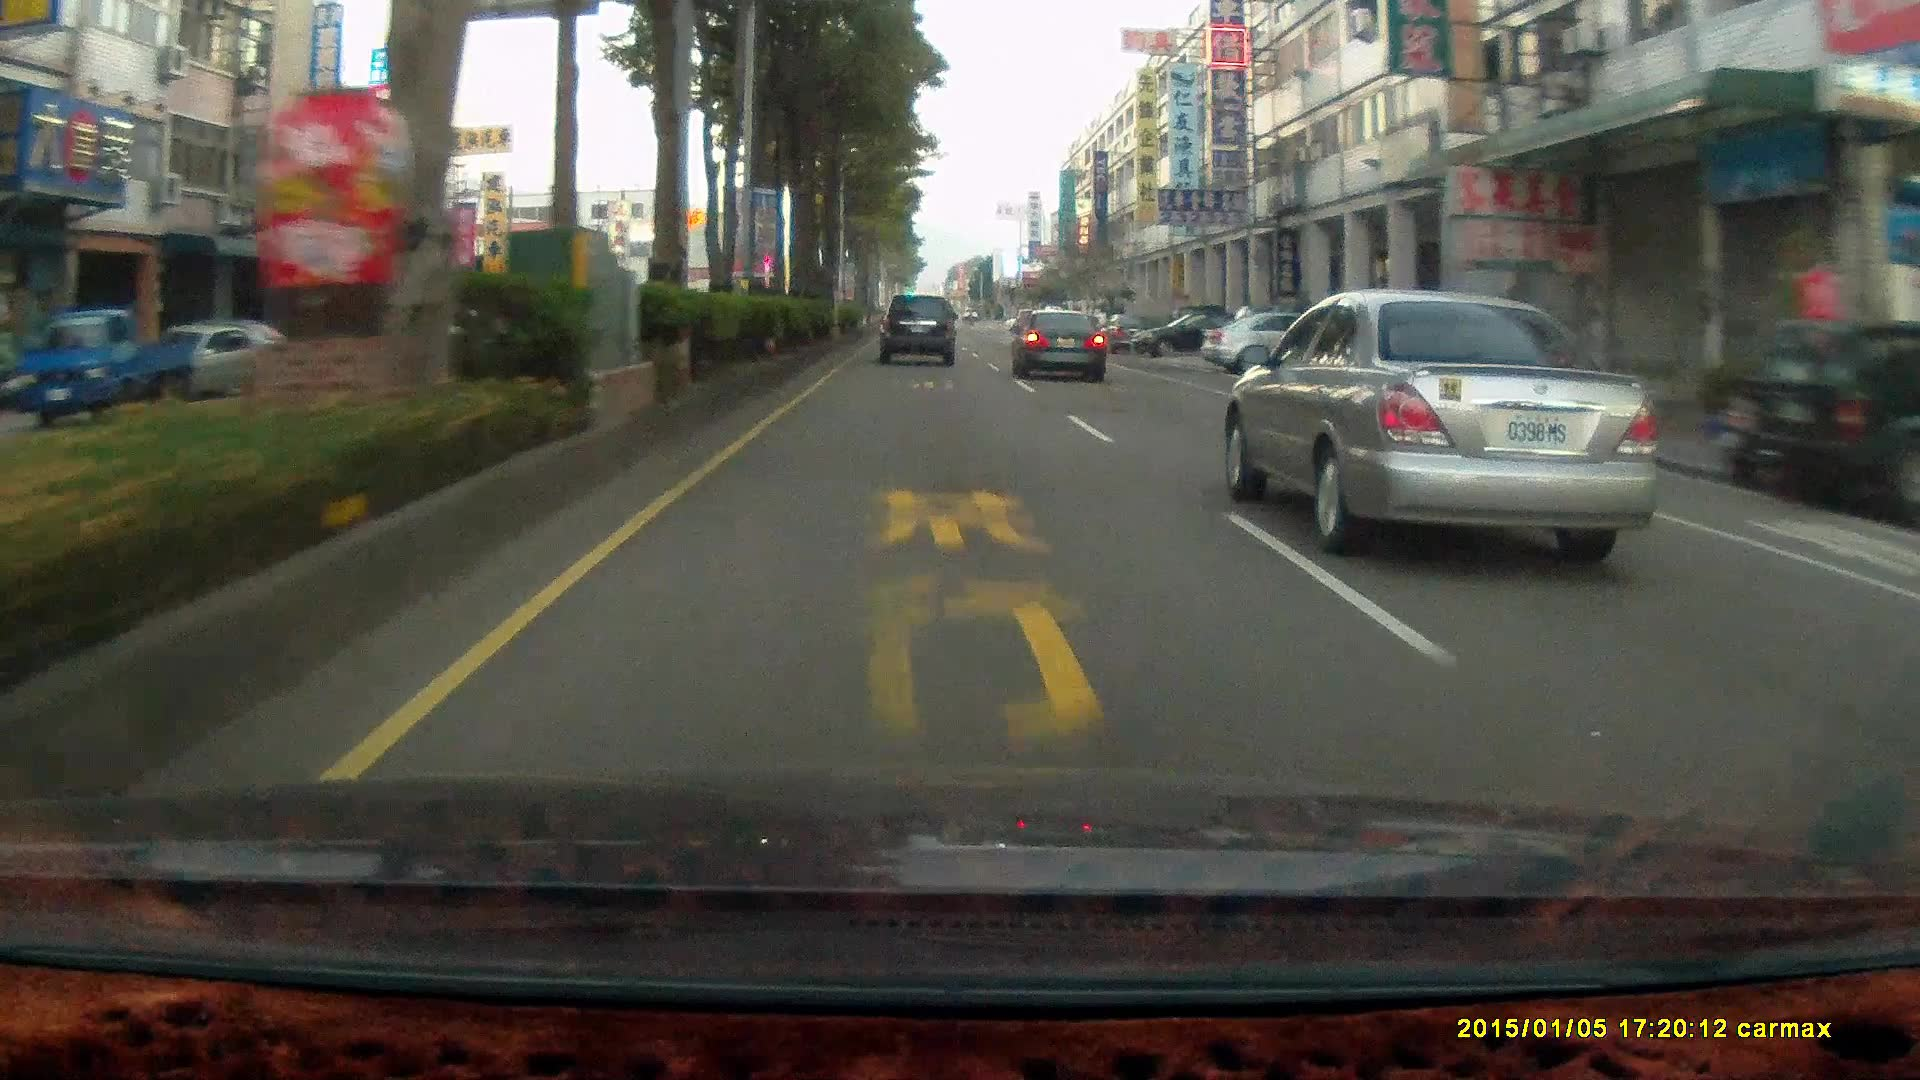vehicle: (1226, 286, 1684, 555), (1718, 314, 1920, 516), (1745, 313, 1920, 514), (15, 310, 193, 425), (1353, 314, 1520, 434), (44, 309, 193, 419), (127, 323, 280, 400), (1203, 309, 1373, 377), (1009, 305, 1108, 378), (1013, 305, 1112, 378), (877, 294, 959, 369), (1129, 306, 1253, 355), (877, 293, 957, 365)
